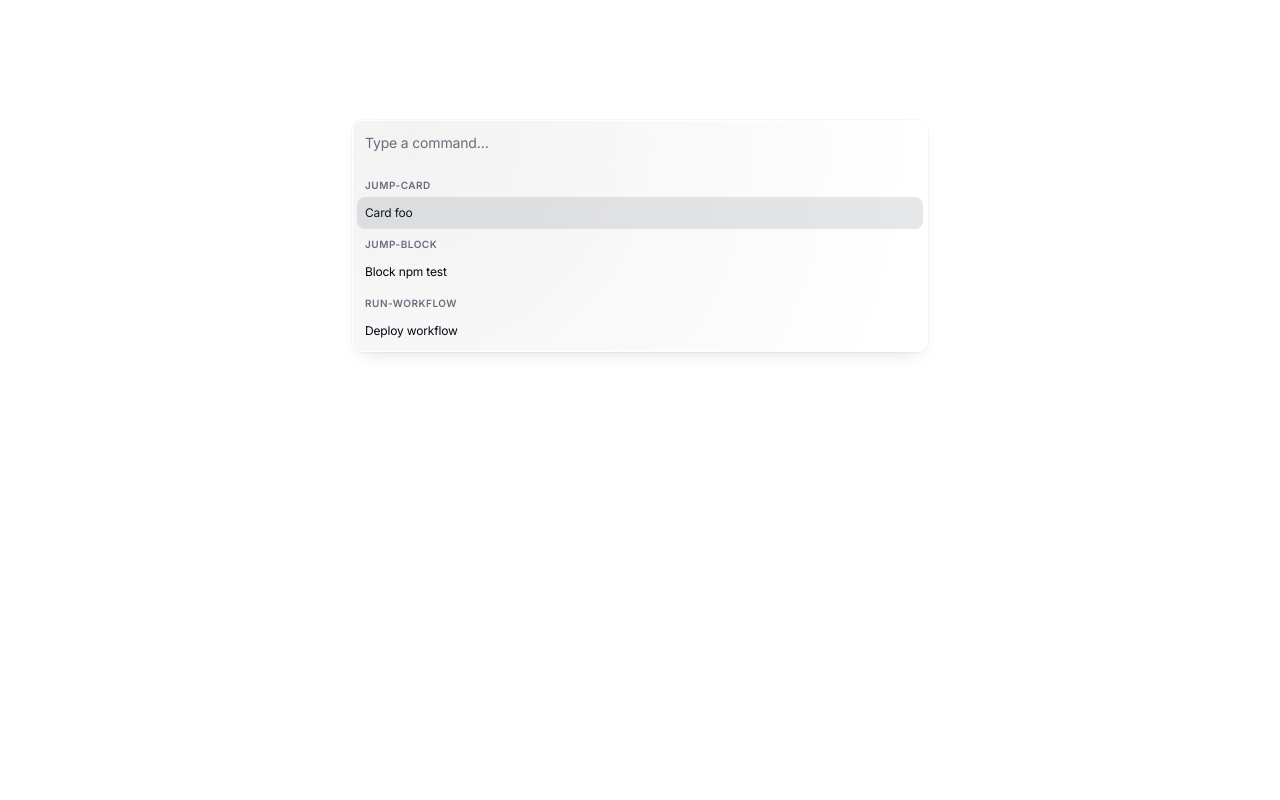
it: CommandPalette › filters entries as the user types
Type "foo" into the field with test id "palette-input" at point(640, 144), box x1=353 y1=121 x2=927 y2=166
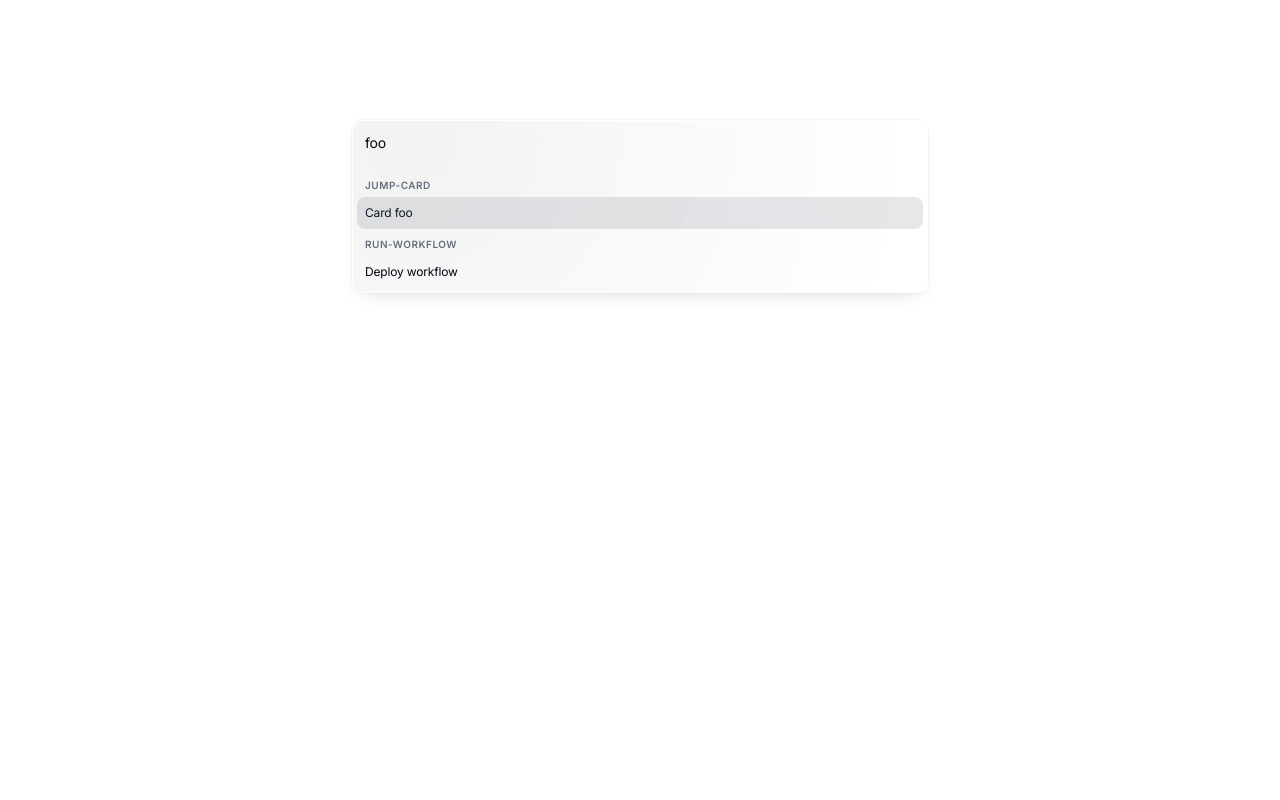
Check: the text "Card foo" is shown, box x1=365 y1=205 x2=413 y2=220
Check: the option "Block npm test" is gone
